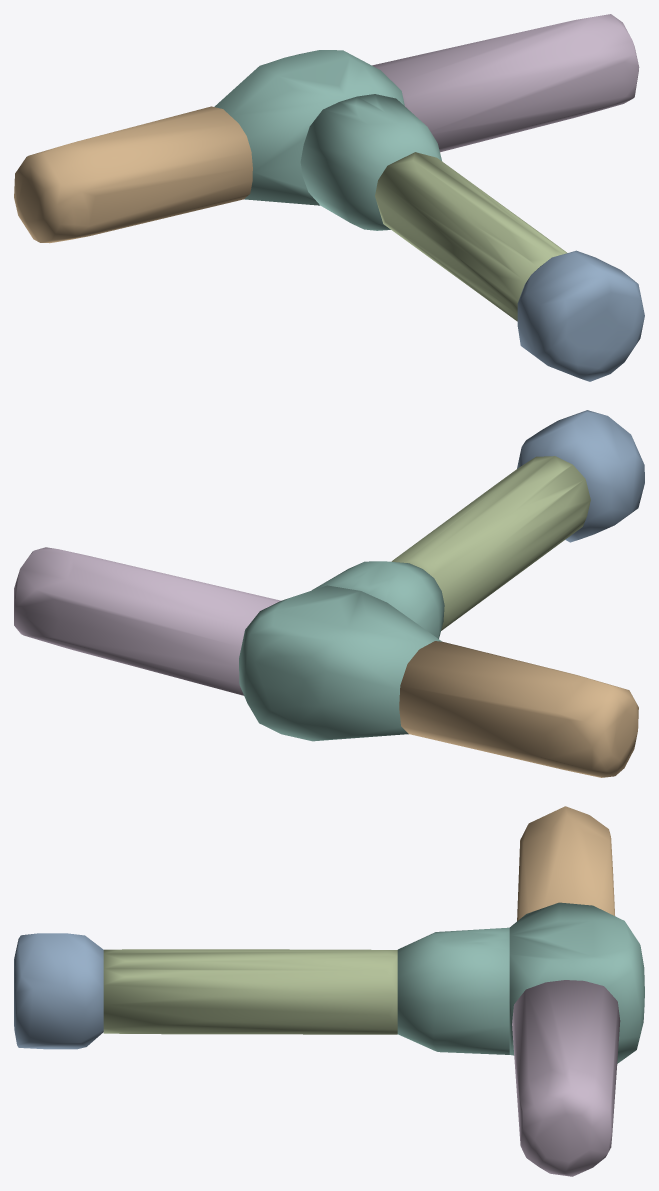
The picture shows the model from 3 angles, top to bottom: view 1: azimuth 30°, elevation 25°; view 2: azimuth 150°, elevation 25°; view 3: azimuth 270°, elevation 25°; orthographic projection.
Size of the model in its own units: 1.57 by 0.2933 by 1.43.
